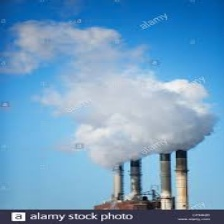smoke: (59, 56, 213, 150)
